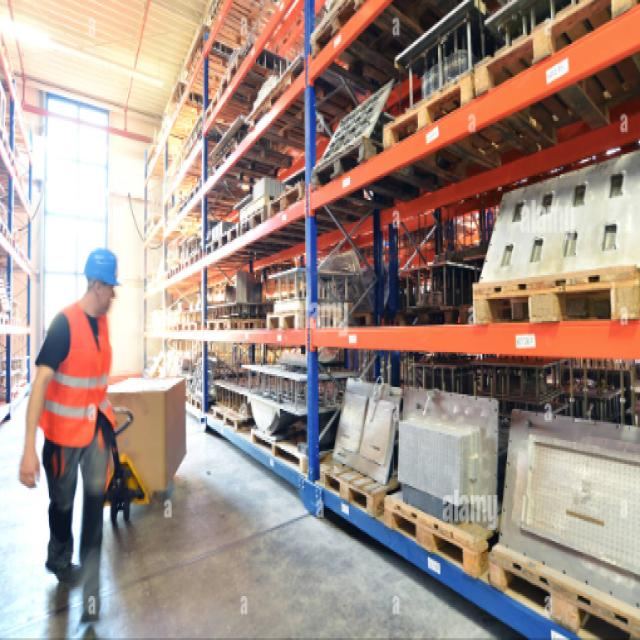boots: (43, 552, 104, 627)
helmet: (79, 248, 122, 318)
vest: (27, 302, 114, 455)
